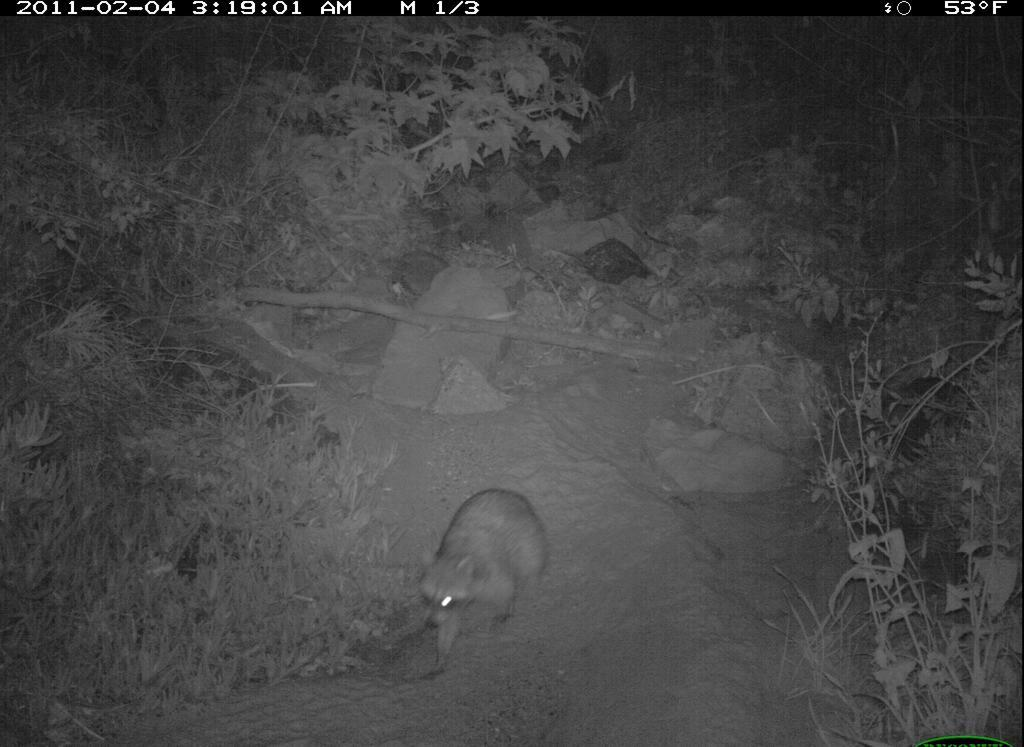raccoon: (414, 482, 556, 679)
